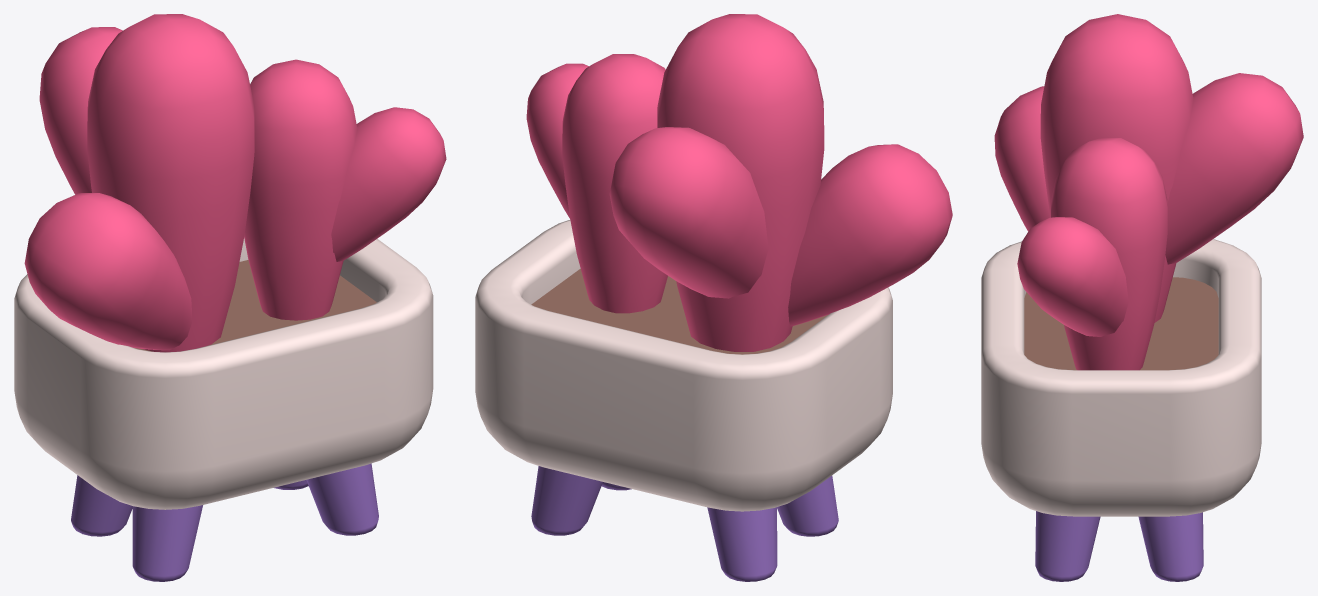
Rendered from City_19_Plant_3.glb.
The picture shows the model from 3 angles, left to right: view 1: azimuth 30°, elevation 25°; view 2: azimuth 150°, elevation 25°; view 3: azimuth 270°, elevation 25°; orthographic projection. The views are drawn at different scales.
Parts seen in each view (by area): view 1: City_19_Plant_3; view 2: City_19_Plant_3; view 3: City_19_Plant_3.
Part boxes in pixels (x1,y1,x2,y2): City_19_Plant_3: [14, 14, 446, 581]; City_19_Plant_3: [475, 14, 952, 581]; City_19_Plant_3: [981, 14, 1303, 581].
Bounding box in the file's own units: 1.08 × 1.32 × 0.7927.
1 material, 1 textured.
